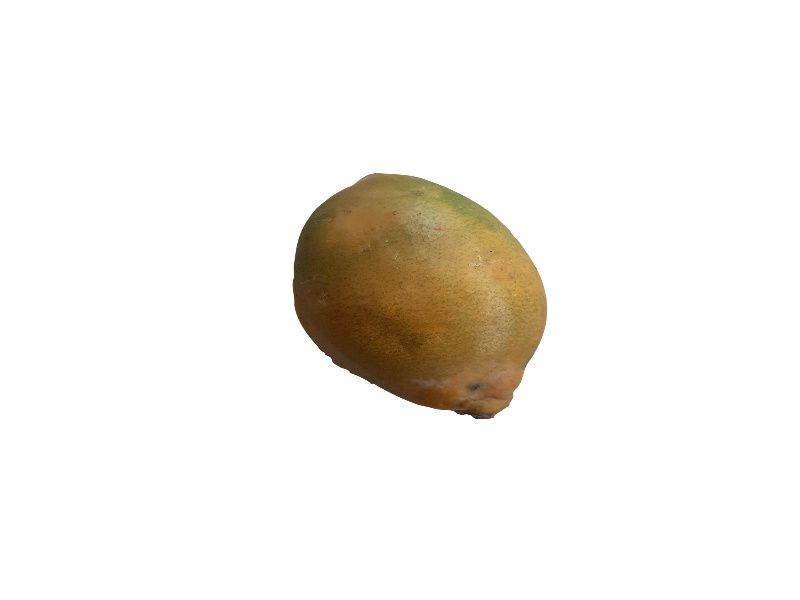arecanut: (287, 173, 552, 424)
